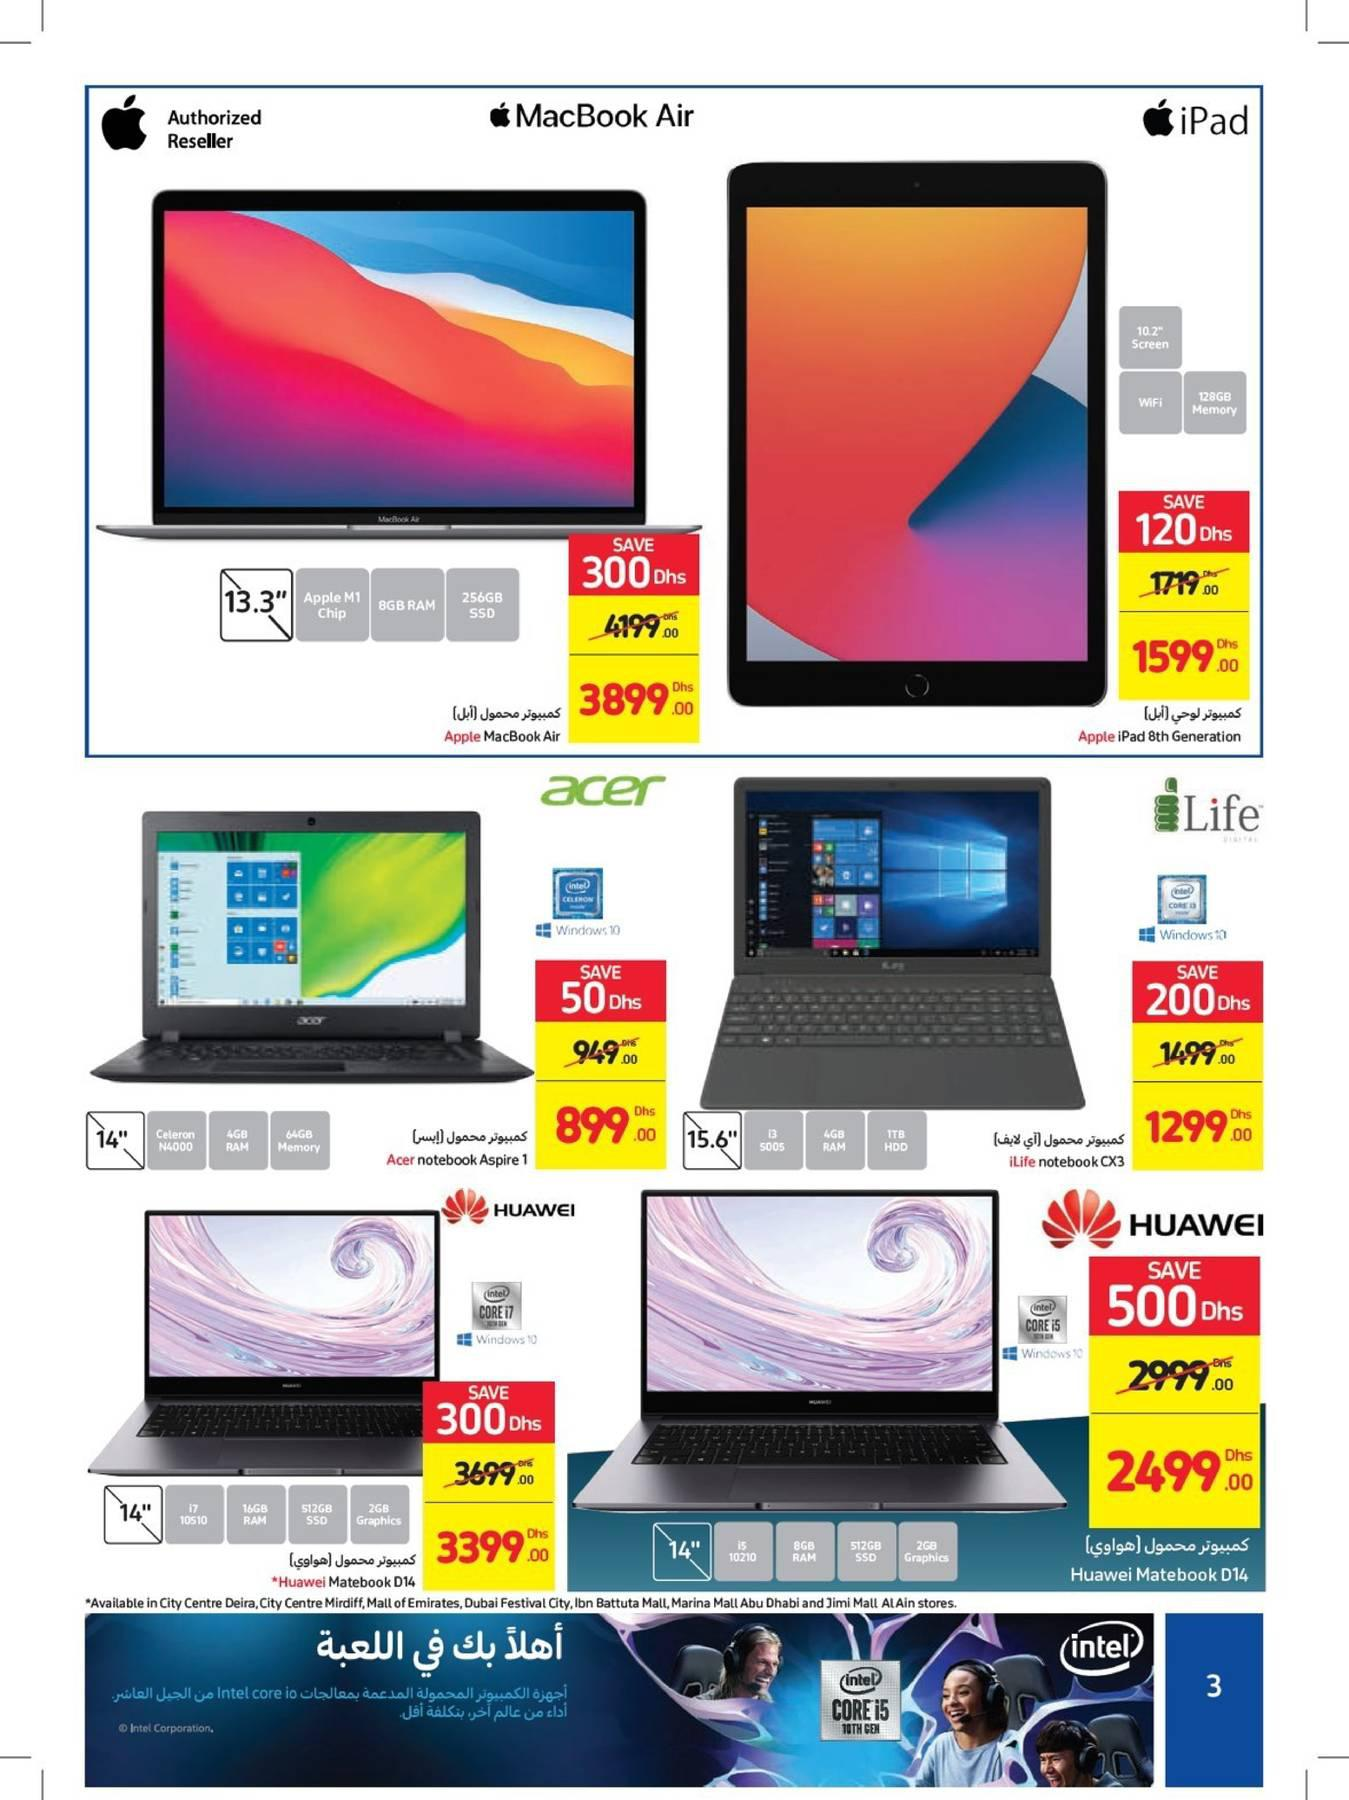text: (1061, 1528, 1257, 1587), (1068, 703, 1255, 748), (381, 1121, 531, 1176), (985, 1125, 1129, 1174), (266, 1549, 419, 1594), (441, 700, 565, 751)
